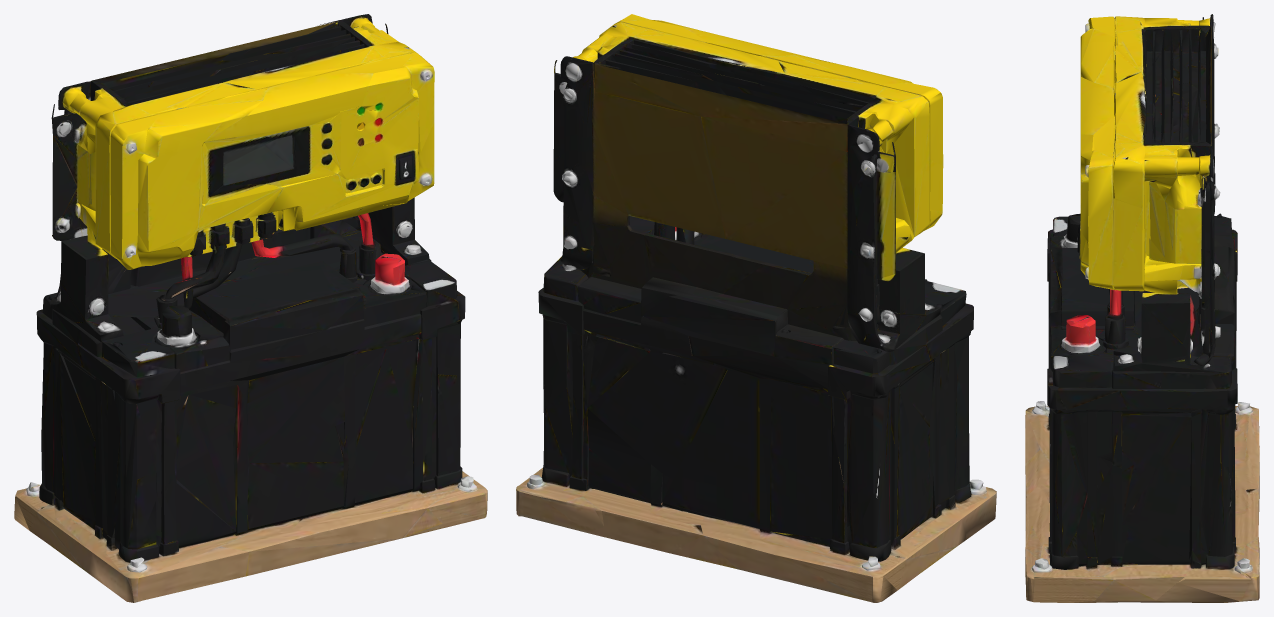
The model's file is battery.glb.
The picture shows the model from 3 angles, left to right: view 1: azimuth 30°, elevation 25°; view 2: azimuth 150°, elevation 25°; view 3: azimuth 270°, elevation 25°; orthographic projection. The views are drawn at different scales.
Parts seen in each view (by area): view 1: output_unwrapped; view 2: output_unwrapped; view 3: output_unwrapped.
Part boxes in pixels (left/top/right/bottom): output_unwrapped: left=14, top=14, right=487, bottom=602; output_unwrapped: left=516, top=14, right=996, bottom=602; output_unwrapped: left=1025, top=14, right=1259, bottom=602.
Size of the model in its own units: 1.62 by 1.9 by 0.9286.
1 material, 1 textured.
